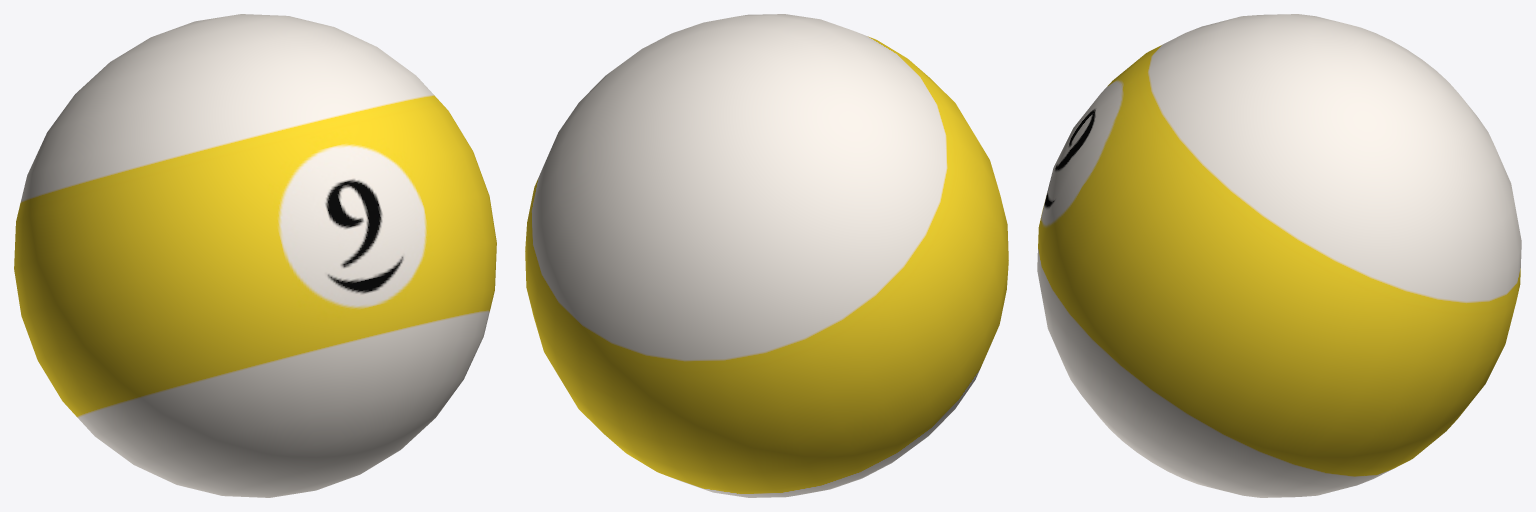
Rendered from ball9.obj.
3 views of the same model, side by side, from view 1: azimuth 30°, elevation 25°; view 2: azimuth 150°, elevation 25°; view 3: azimuth 270°, elevation 25° (orthographic).
Parts seen in each view (by area): view 1: Ball9_Mesh.013; view 2: Ball9_Mesh.013; view 3: Ball9_Mesh.013.
Boxes of the visible parts, bbox=[...] form: Ball9_Mesh.013: bbox=[14, 14, 496, 497]; Ball9_Mesh.013: bbox=[525, 14, 1008, 497]; Ball9_Mesh.013: bbox=[1037, 14, 1521, 497].
Size of the model in its own units: 0.9617 by 0.9597 by 0.9597.
Materials: 1 (1 with a texture image).
